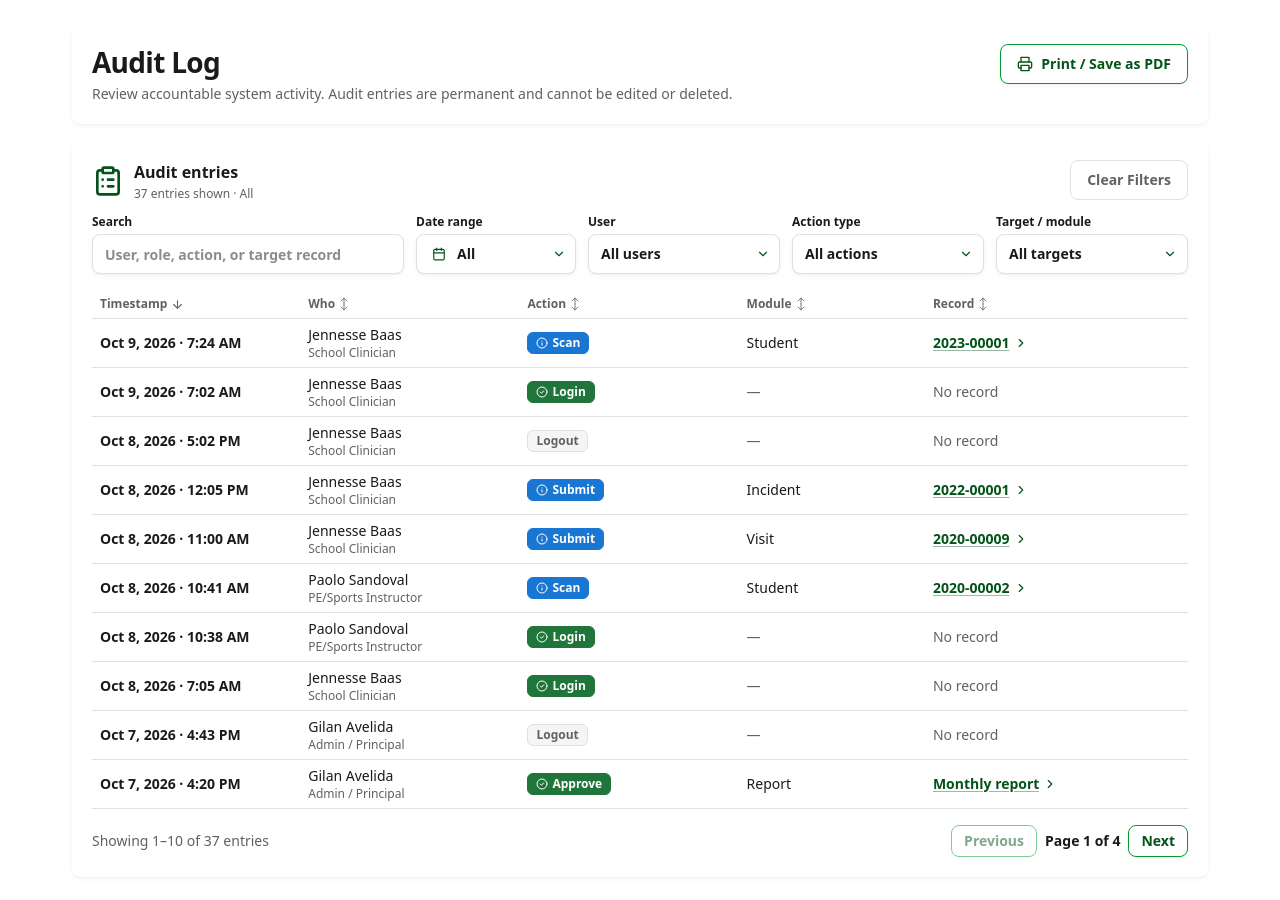
Test: Audit Log › filters entries by the resolved account name
Expected: the table named "Filtered audit log" is shown, [92, 290, 1188, 808]
Click the button labelled "All users" at (684,254), box [588, 234, 780, 274]
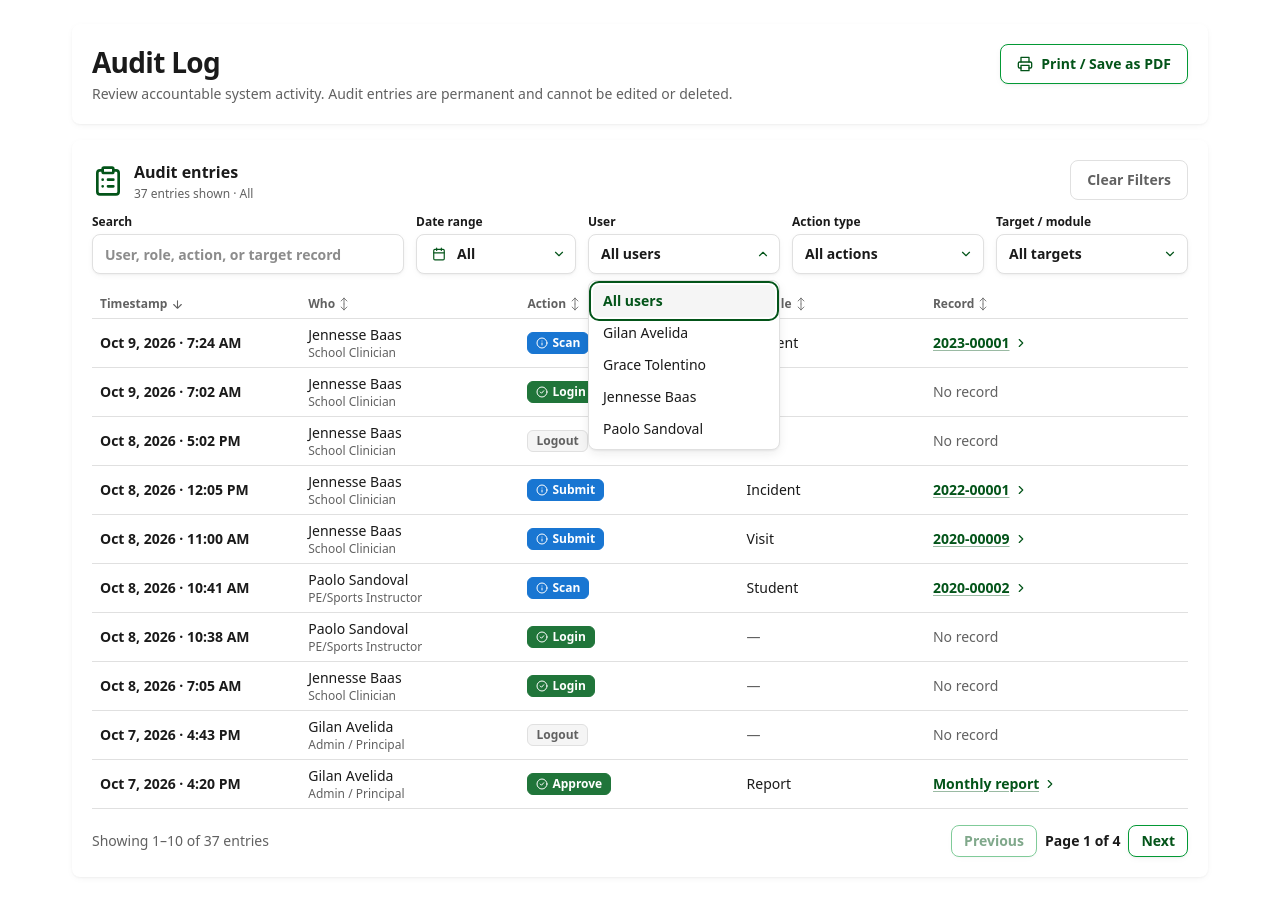
Select "user-admin-01" in the list at (684,365), box [588, 280, 780, 450]
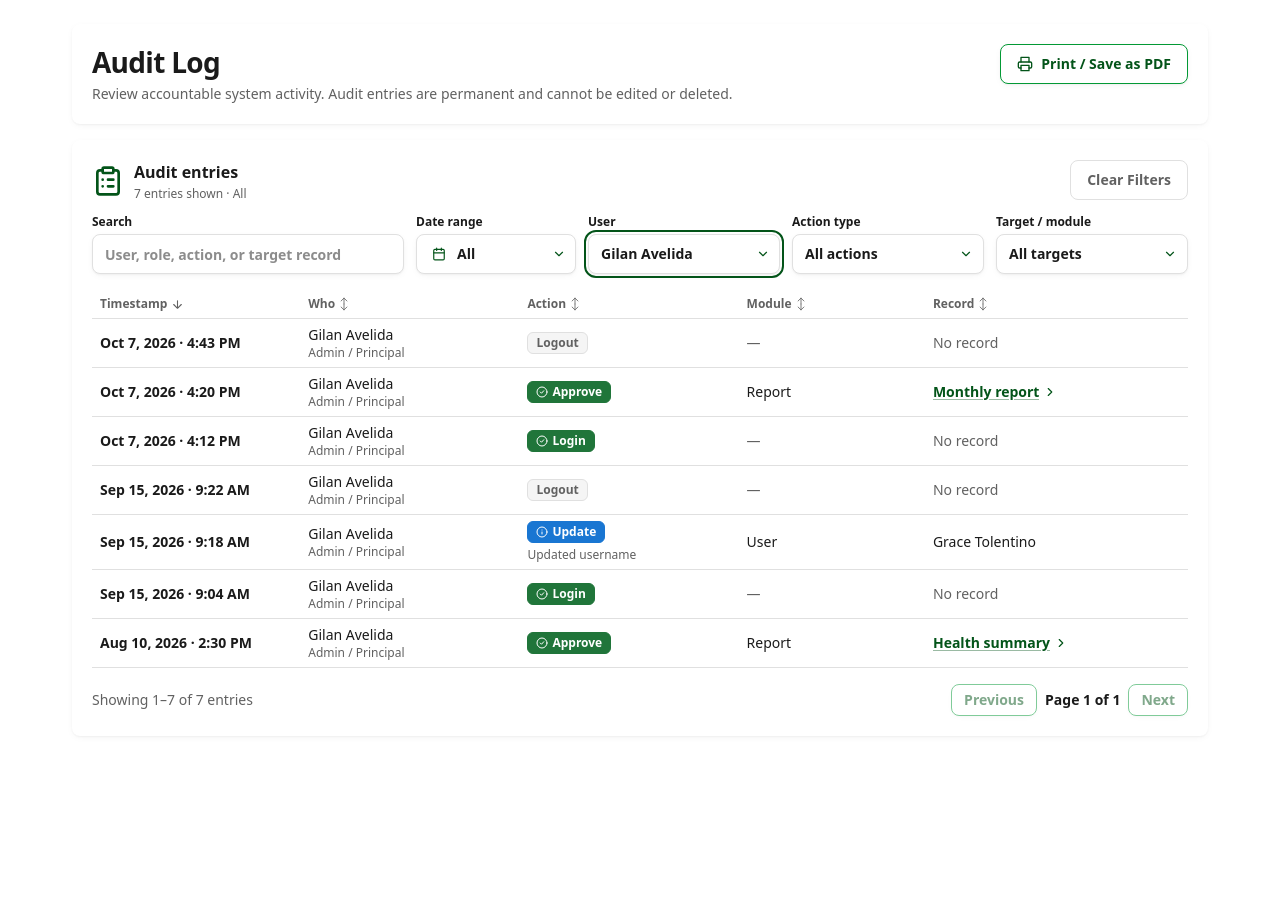
Expected: the text "7 entries shown · All" is shown, [134, 186, 246, 202]
Now the text "Gilan Avelida" is shown 7 times
